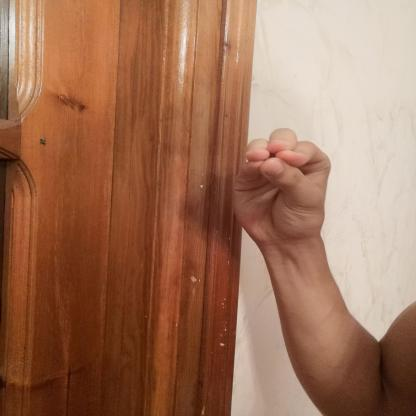HA: (207, 114, 361, 260)
